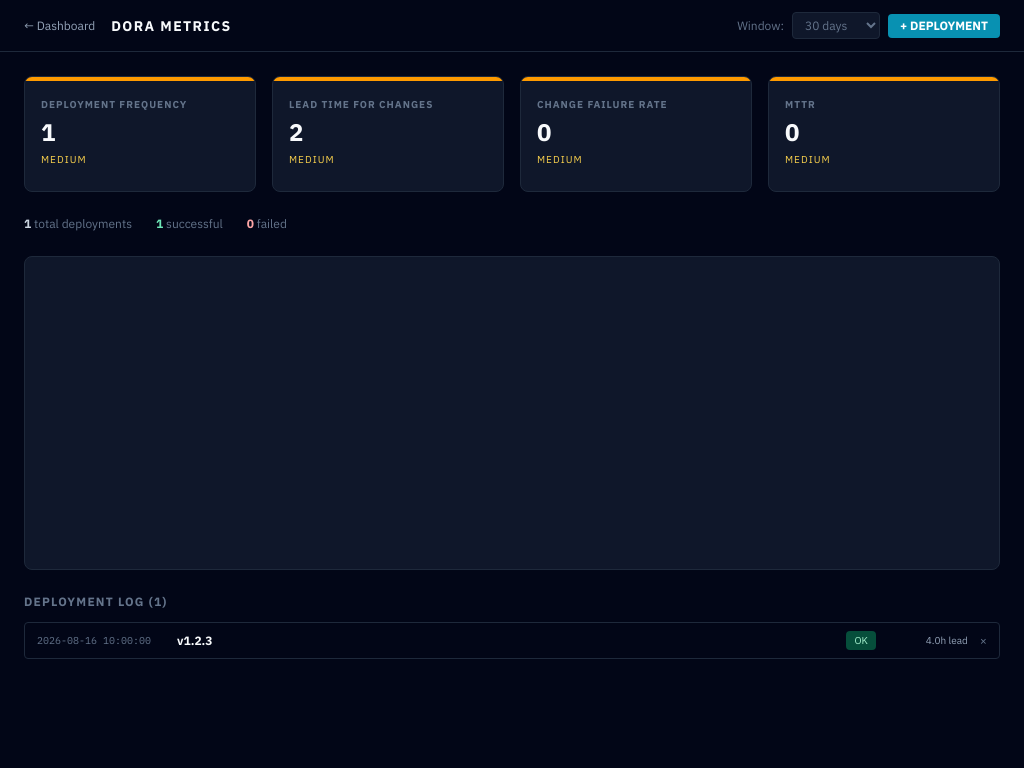
Test: DORADashboard › deletes the deployment when the dialog is confirmed
The width and height of the screenshot is (1024, 768).
Click the button named "Delete deployment": (983,640) [980,632,987,648]
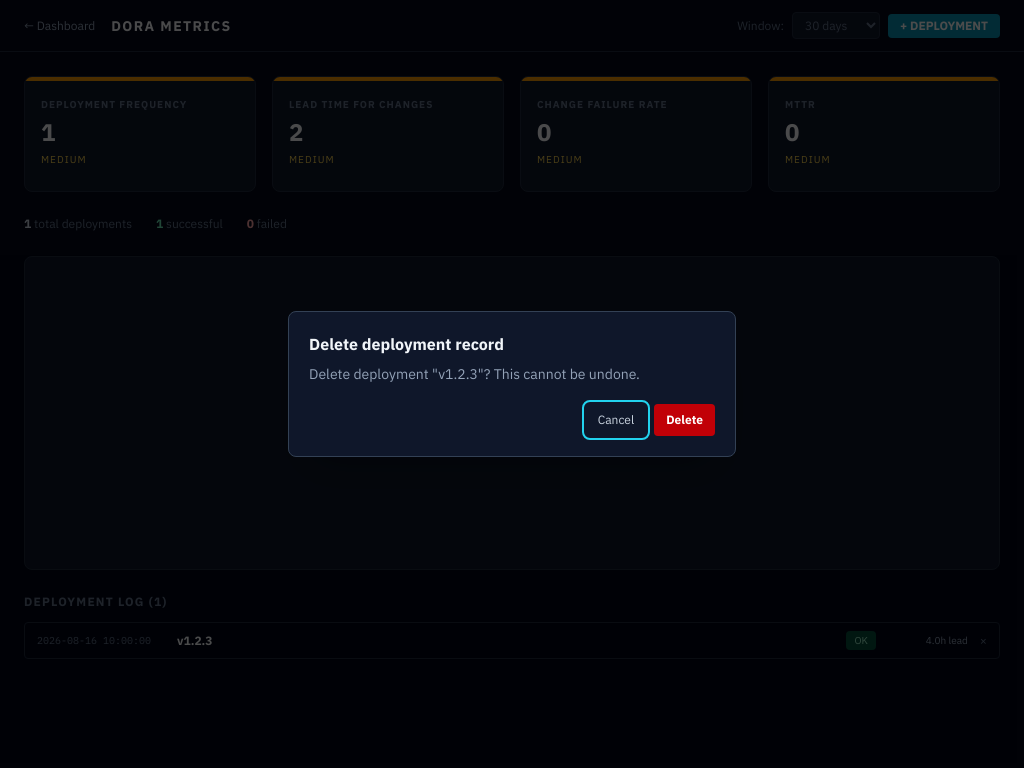
Click the button "Delete": (685,420) [654,404,715,436]
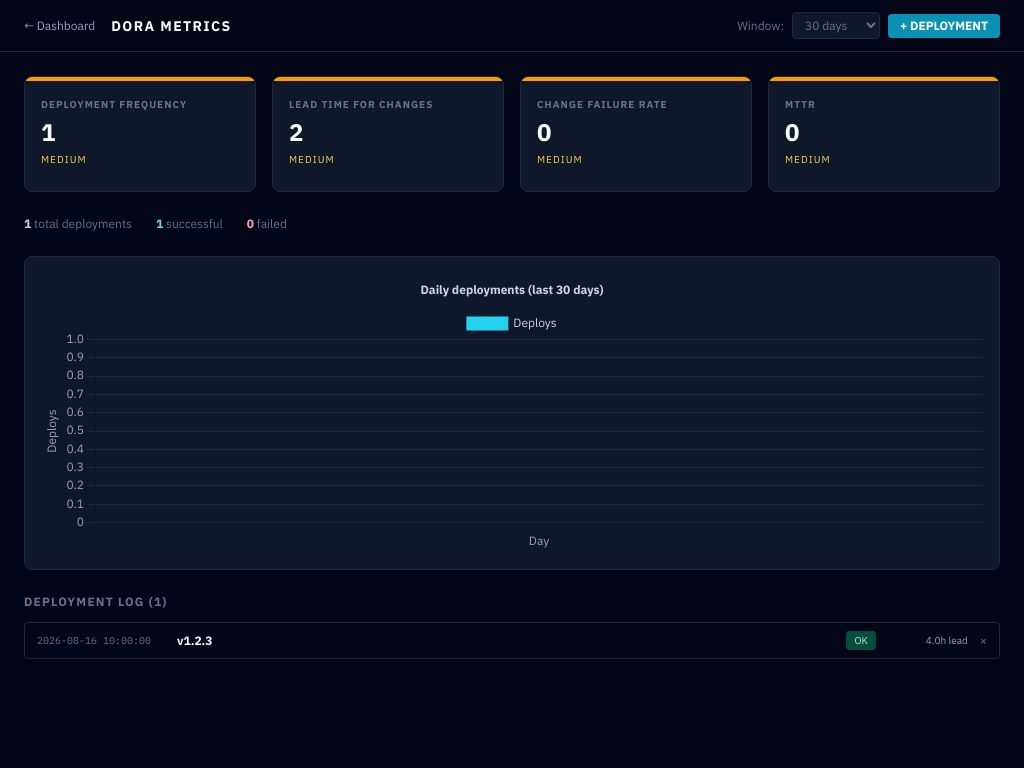
Result: the dialog is gone
